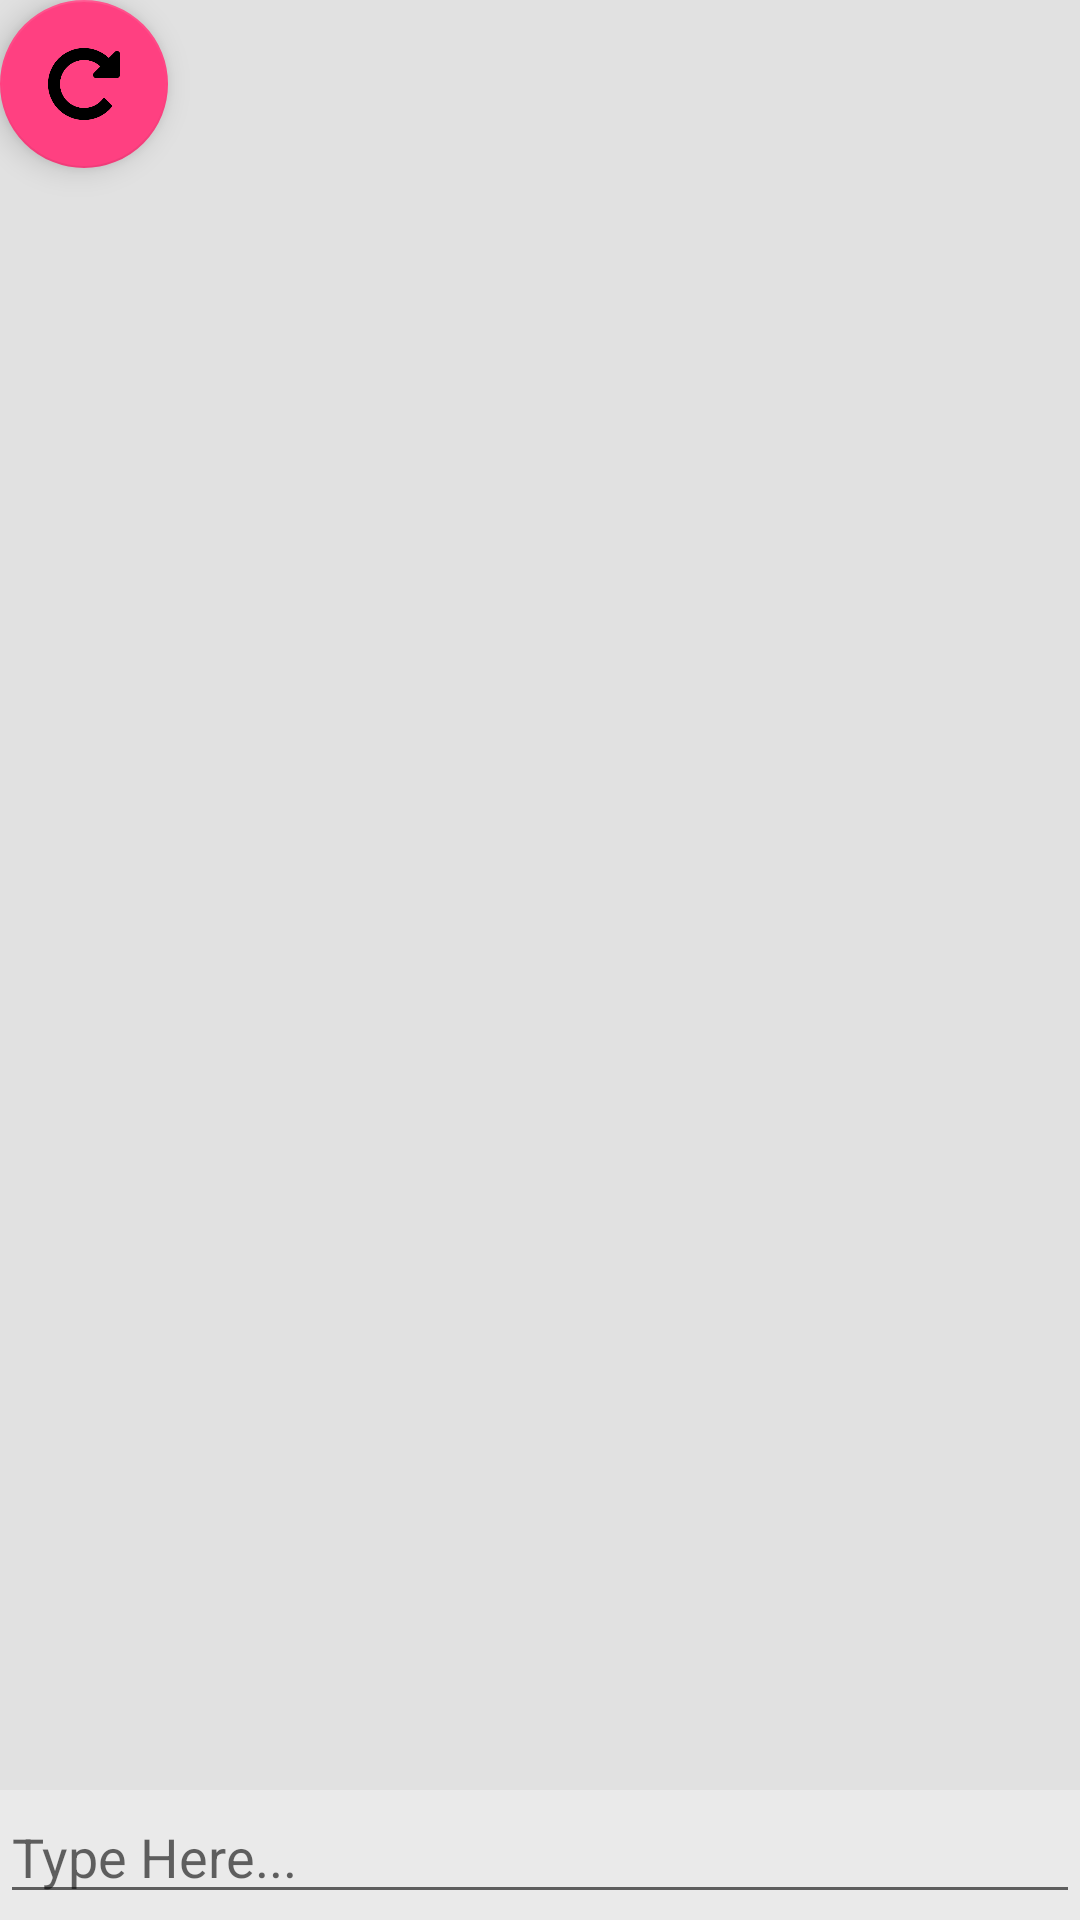

Named icons in this screenshot (1080px x 1920px) and their centers, point (x, y):
refresharrow: point (84, 84)
